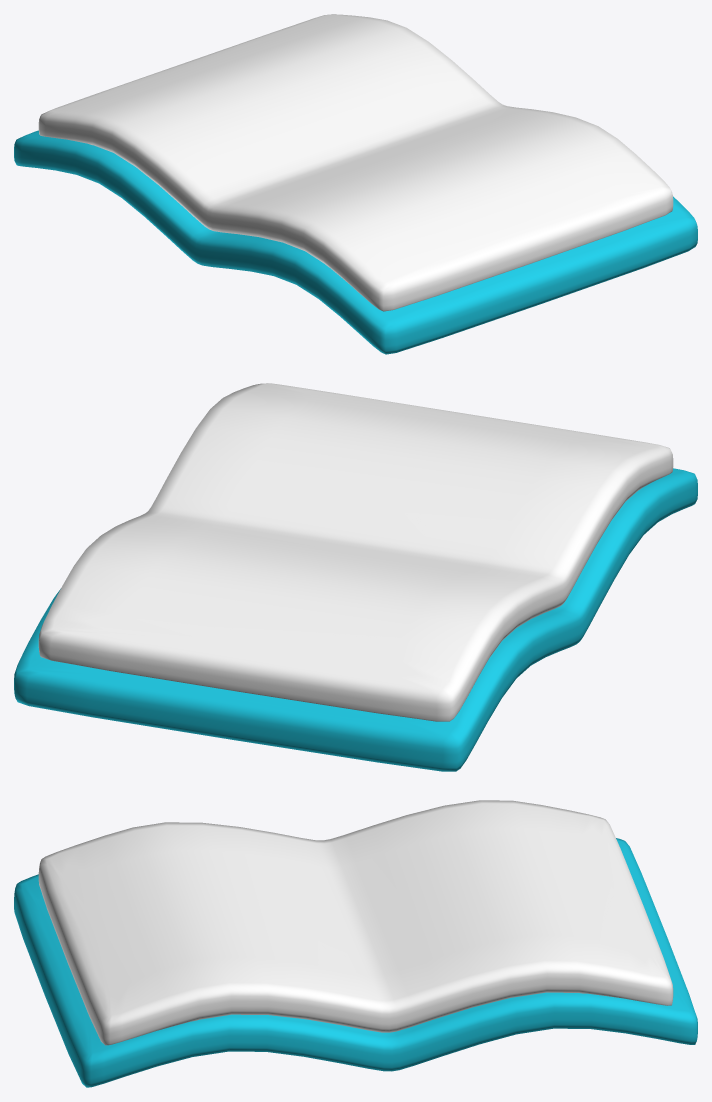
The model's file is book.glb.
The picture shows the model from 3 angles, top to bottom: view 1: azimuth 30°, elevation 25°; view 2: azimuth 150°, elevation 25°; view 3: azimuth 270°, elevation 25°; orthographic projection. The views are drawn at different scales.
Visible parts, largest first — view 1: OpenBook; view 2: OpenBook; view 3: OpenBook.
Boxes of the visible parts, x1,y1,x2,y2 form: OpenBook: (14,14,697,354); OpenBook: (14,383,697,771); OpenBook: (14,800,697,1087).
Bounding box in the file's own units: 0.5304 × 0.1001 × 0.6857.
